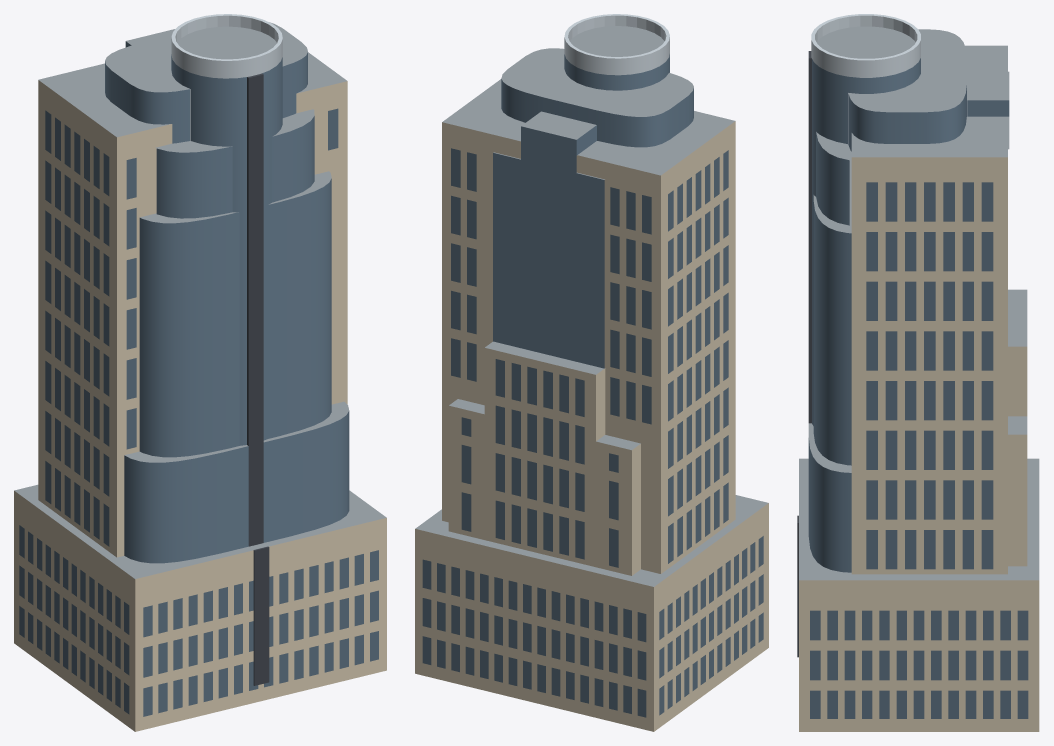
Rendered from cin-scripps-center.glb.
3 views of the same model, side by side, from view 1: azimuth 30°, elevation 25°; view 2: azimuth 150°, elevation 25°; view 3: azimuth 270°, elevation 25° (orthographic). The views are drawn at different scales.
Visible parts, largest first — view 1: Scripps Center; view 2: Scripps Center; view 3: Scripps Center.
Part boxes in pixels (x1,y1,x2,y2): Scripps Center: [14, 14, 386, 731]; Scripps Center: [415, 14, 768, 731]; Scripps Center: [797, 14, 1039, 731].
Size of the model in its own units: 60.1 by 146 by 50.35.
